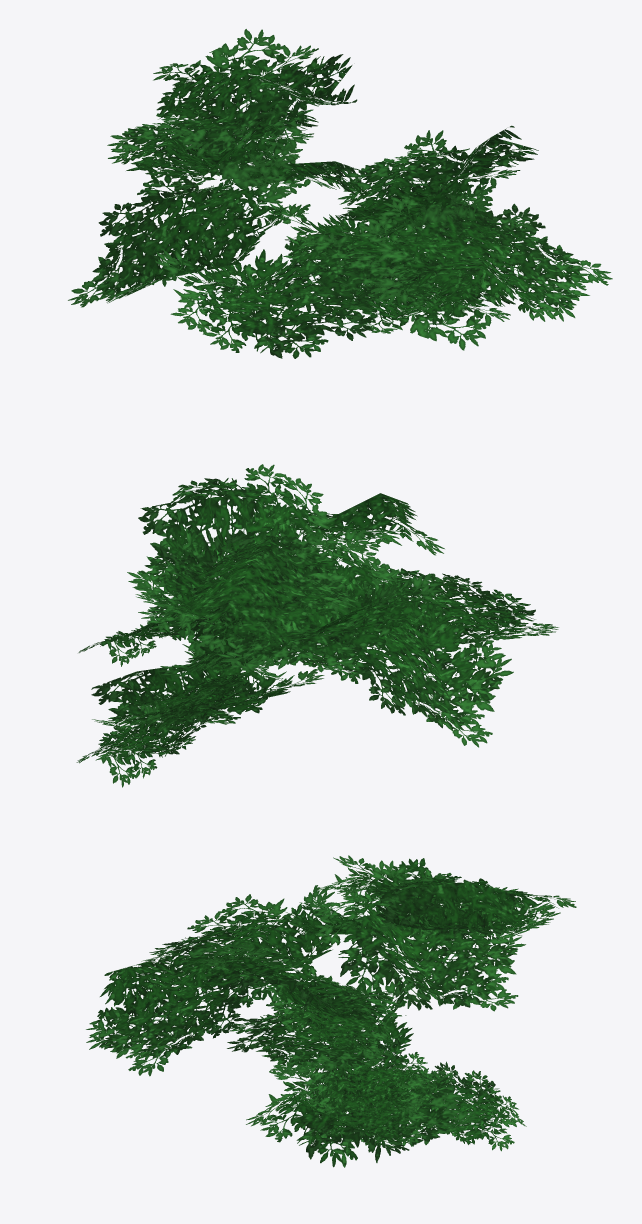
File: broad_leaved_tree_leaves.dae
3 renders of one model, top to bottom at view 1: azimuth 30°, elevation 25°; view 2: azimuth 150°, elevation 25°; view 3: azimuth 270°, elevation 25°, orthographic. The views are drawn at different scales.
Parts seen in each view (by area): view 1: Tree_001_004; view 2: Tree_001_004; view 3: Tree_001_004.
Part boxes in pixels (x1,y1,x2,y2): Tree_001_004: (68, 29, 612, 358); Tree_001_004: (76, 464, 558, 787); Tree_001_004: (86, 855, 576, 1167).
Size of the model in its own units: 10.11 by 12.62 by 6.09.
1 material, 1 textured.
